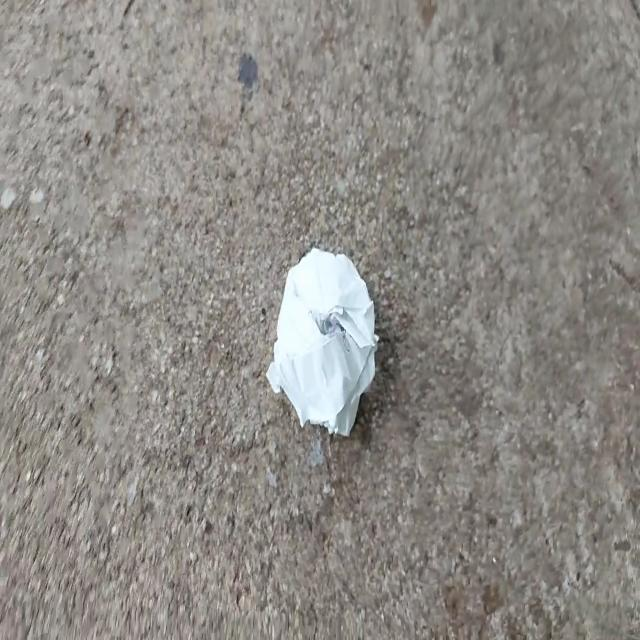Paper: (234, 215, 415, 451)
